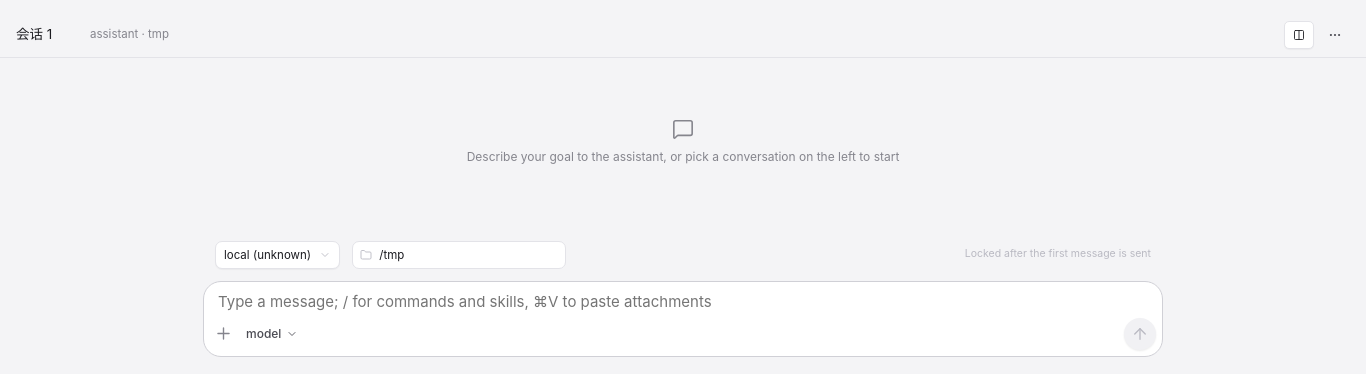
Test: 明细菜单归档当前主屏会话：PATCH 追加 helmx:archived，replace 跳到待命页
Press the mouse on the button named "More conversation actions" at (1335, 34), box x1=1320 y1=20 x2=1350 y2=48
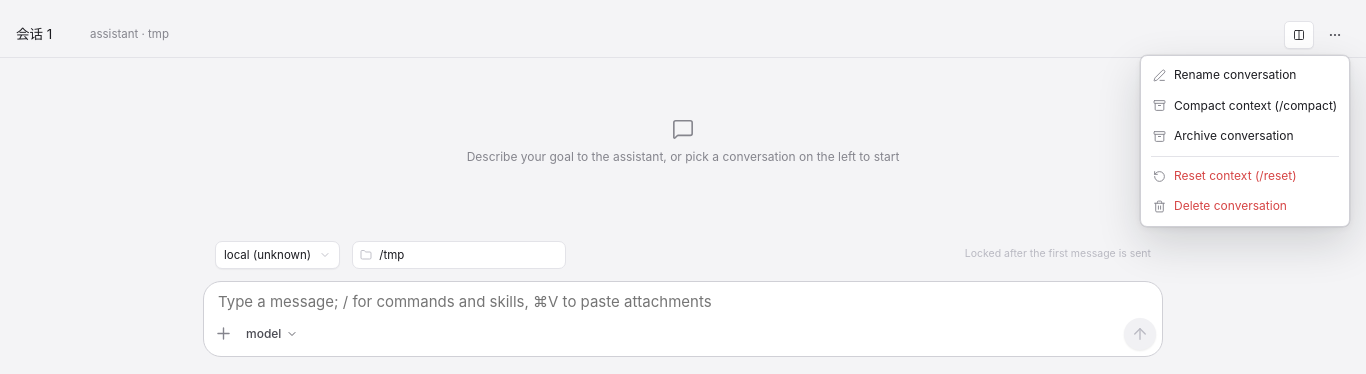
Check: the menu item "Archive conversation" is shown
Click the menu item "Archive conversation" at (1223, 136), box x1=1153 y1=128 x2=1294 y2=143
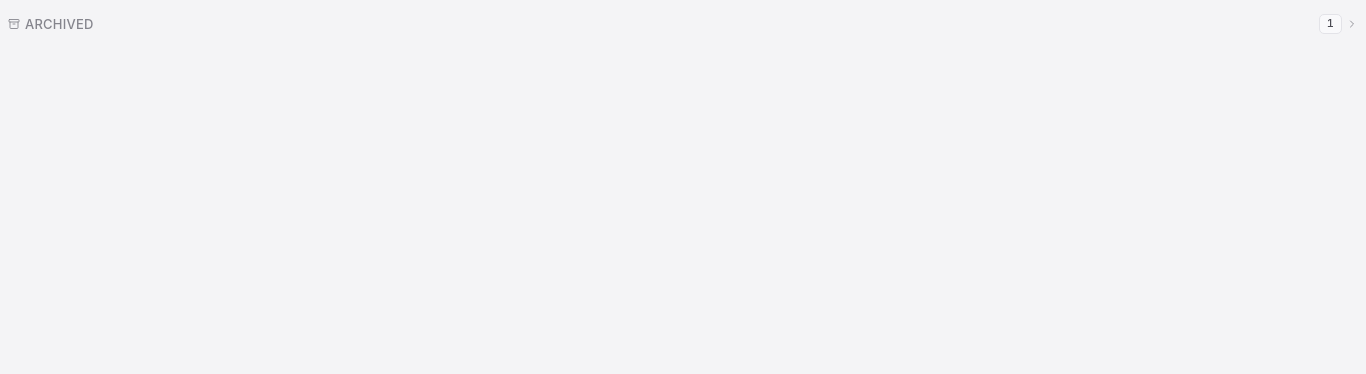
Check: the button with class "sidebar-group-header-toggle" is shown, box x1=8 y1=12 x2=1358 y2=36
